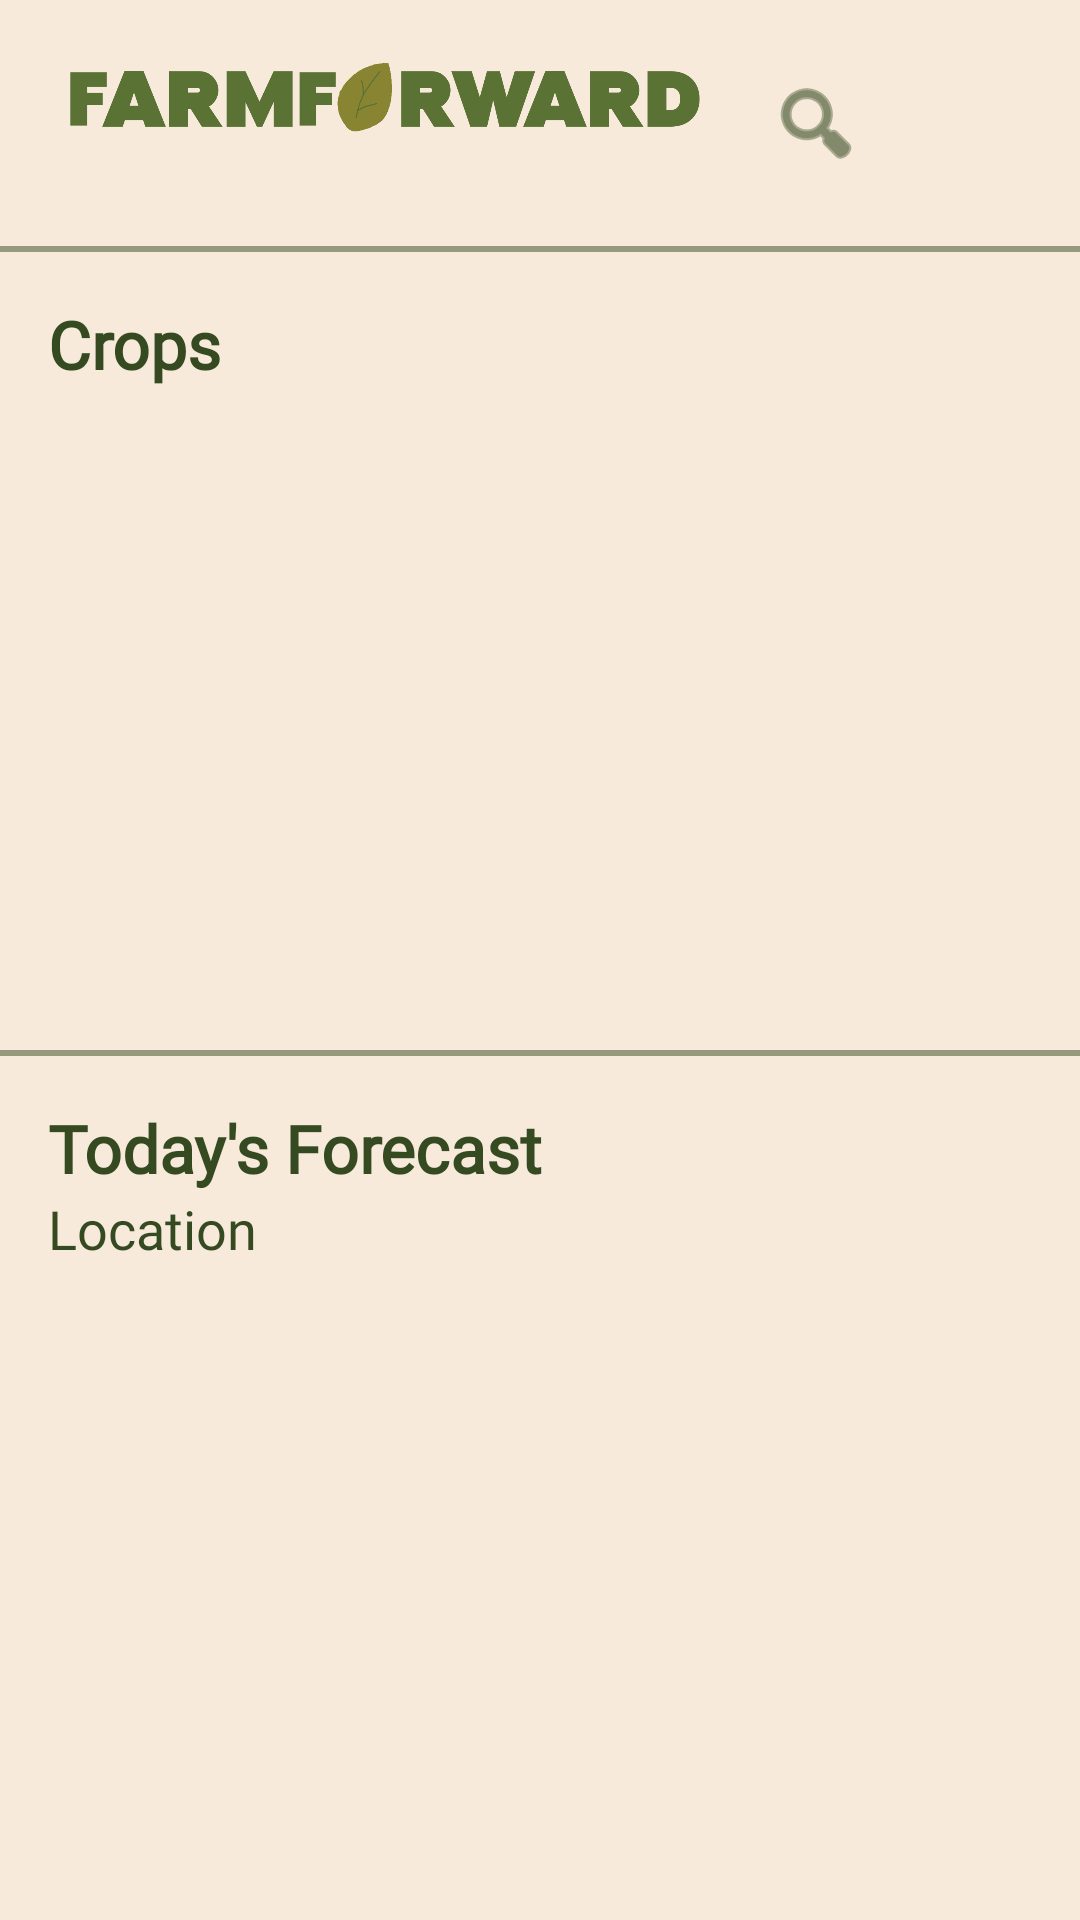

Where icons sit on this 1080px×1920px app screen, as (x1=x1, y1=y1, x2=x2, y2=y2):
Search: (x1=781, y1=88, x2=851, y2=159)
